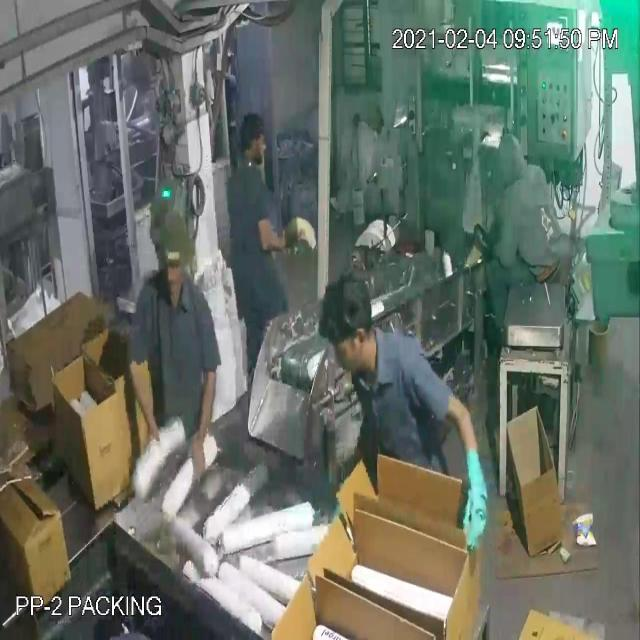gloves: (456, 436, 490, 556)
no-gloves: (186, 352, 226, 488), (122, 335, 164, 461), (254, 201, 296, 267)
